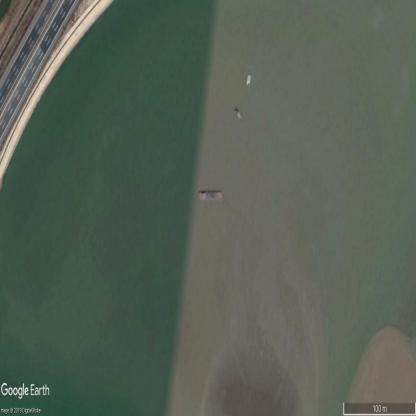ship: (198, 186, 224, 202)
